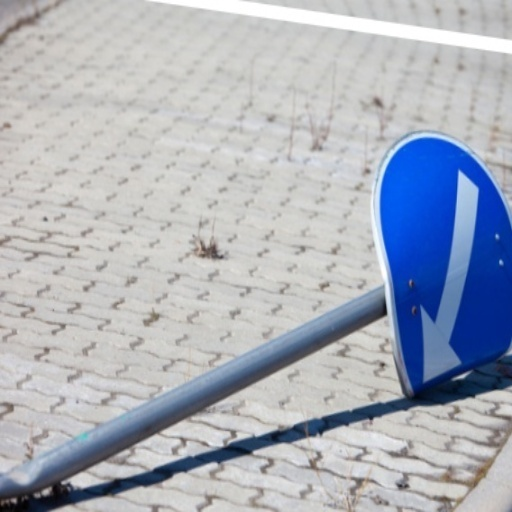Keep left: (354, 123, 511, 400)
